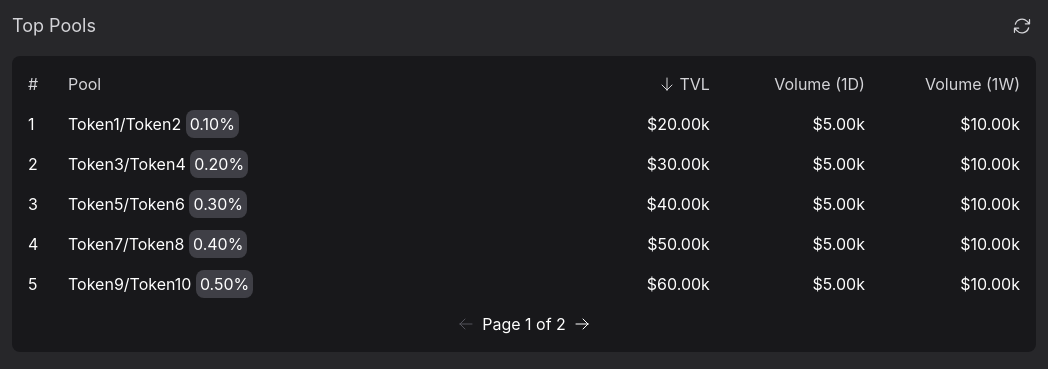
Test case: PoolTable › Pool table sort works
Expected: the text "$20.00k" is shown, 647,114 -> 710,134
Click the text "TVL" at x=685, y=84, box 659,74 -> 710,94
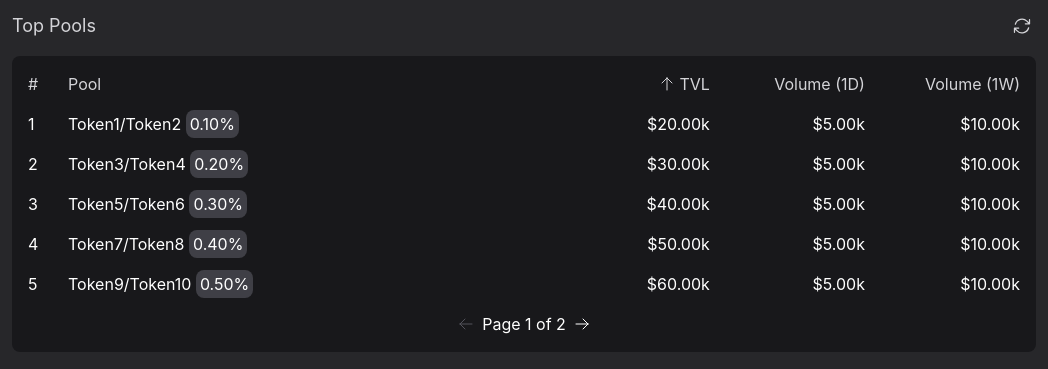
Click the text "TVL" at x=685, y=84, box 659,74 -> 710,94
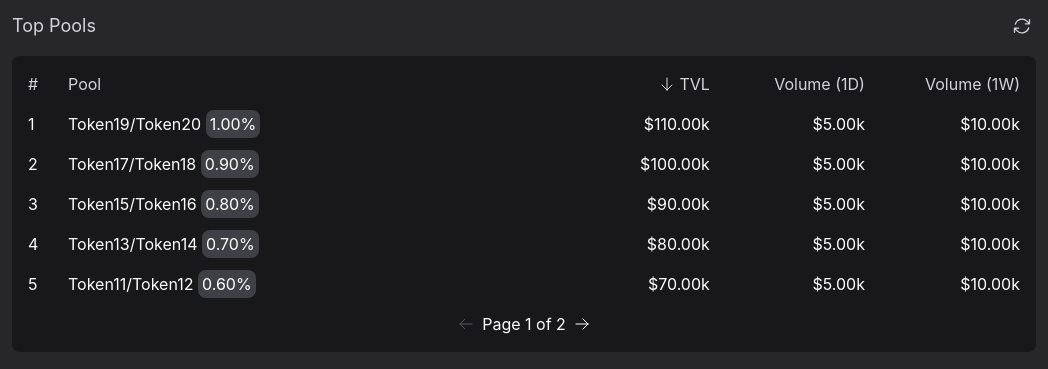
Expected: the text "$110.00k" is shown, 644,114 -> 710,134
Click the text "TVL" at x=685, y=84, box 659,74 -> 710,94
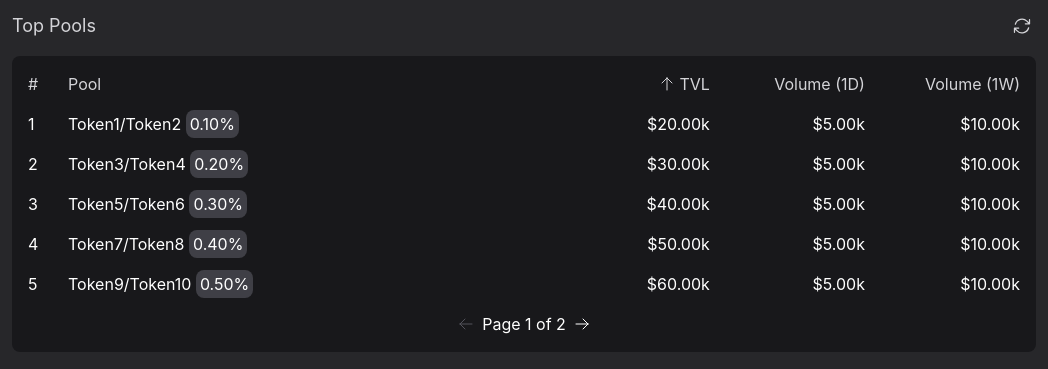
Expected: the text "$20.00k" is shown, 647,114 -> 710,134
